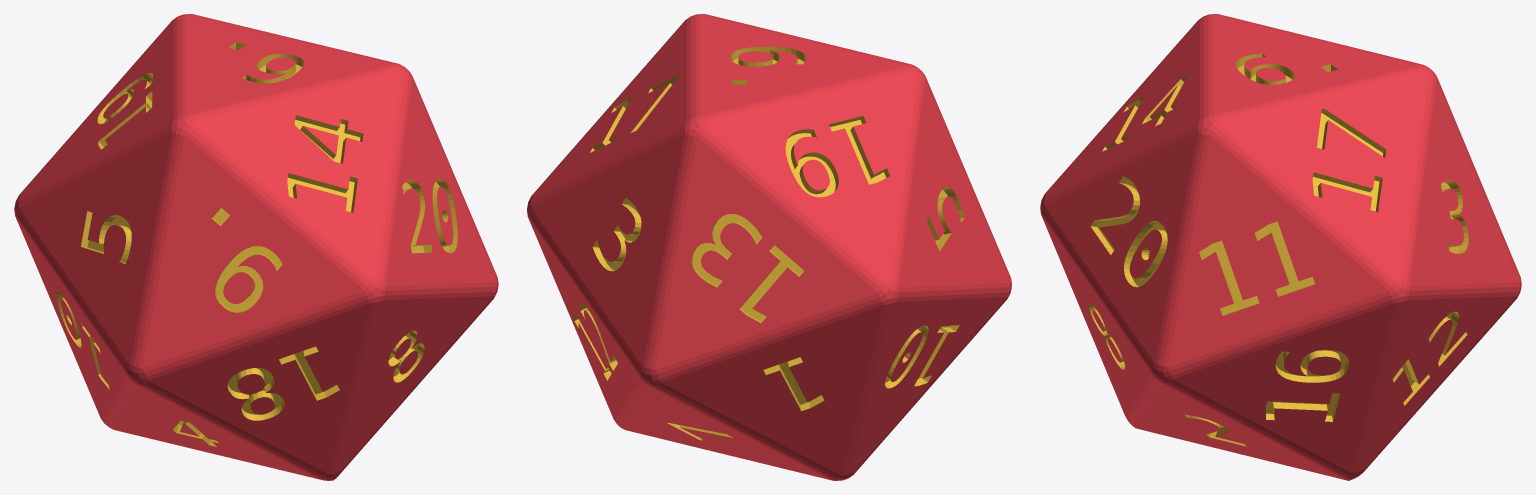
The picture shows the model from 3 angles, left to right: view 1: azimuth 30°, elevation 25°; view 2: azimuth 150°, elevation 25°; view 3: azimuth 270°, elevation 25°; orthographic projection.
Parts seen in each view (by area): view 1: D20 19mm; view 2: D20 19mm; view 3: D20 19mm.
Boxes of the visible parts, x1,y1,x2,y2 form: D20 19mm: (14, 14, 498, 480); D20 19mm: (527, 14, 1011, 480); D20 19mm: (1040, 14, 1521, 480).
Size of the model in its own units: 1007 by 950 by 1145.
